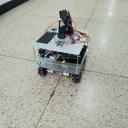cart: (32, 26, 89, 84)
